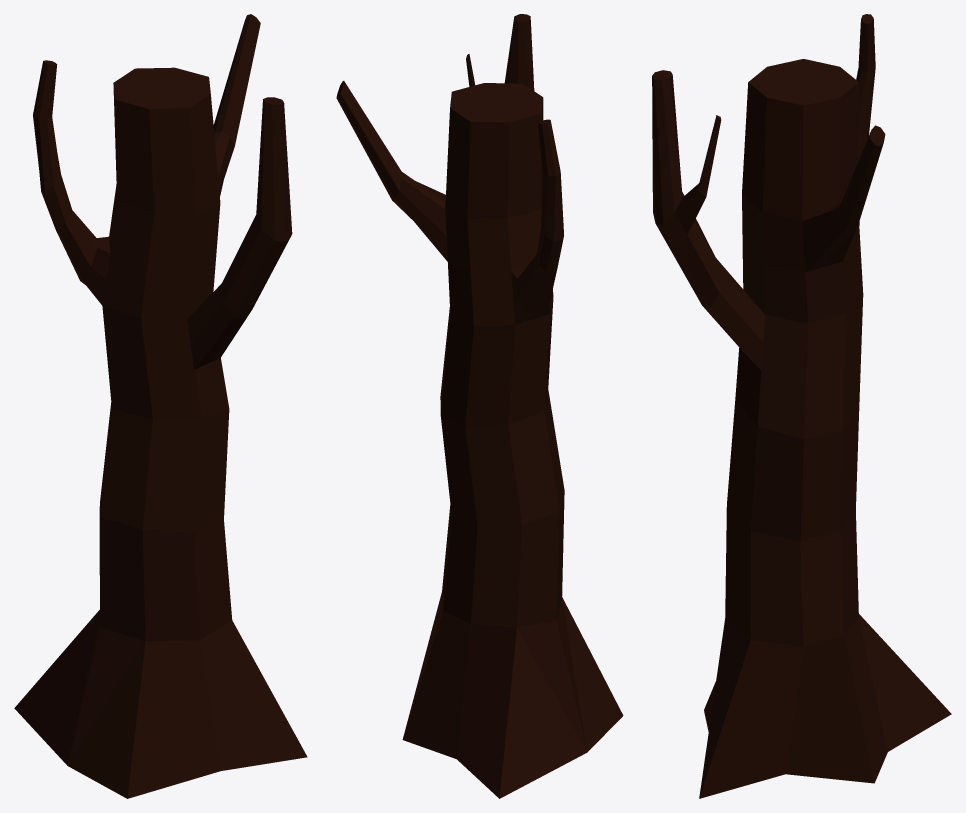
Rendered from Tree1.obj.
3 views of the same model, side by side, from view 1: azimuth 30°, elevation 25°; view 2: azimuth 150°, elevation 25°; view 3: azimuth 270°, elevation 25° (orthographic). The views are drawn at different scales.
Visible parts, largest first — view 1: Cube.002; view 2: Cube.002; view 3: Cube.002.
Part boxes in pixels (bbox=[...]): Cube.002: bbox=[14, 14, 307, 798]; Cube.002: bbox=[336, 14, 623, 798]; Cube.002: bbox=[652, 14, 951, 798].
Bounding box in the file's own units: 1.82 × 5.22 × 2.03.
